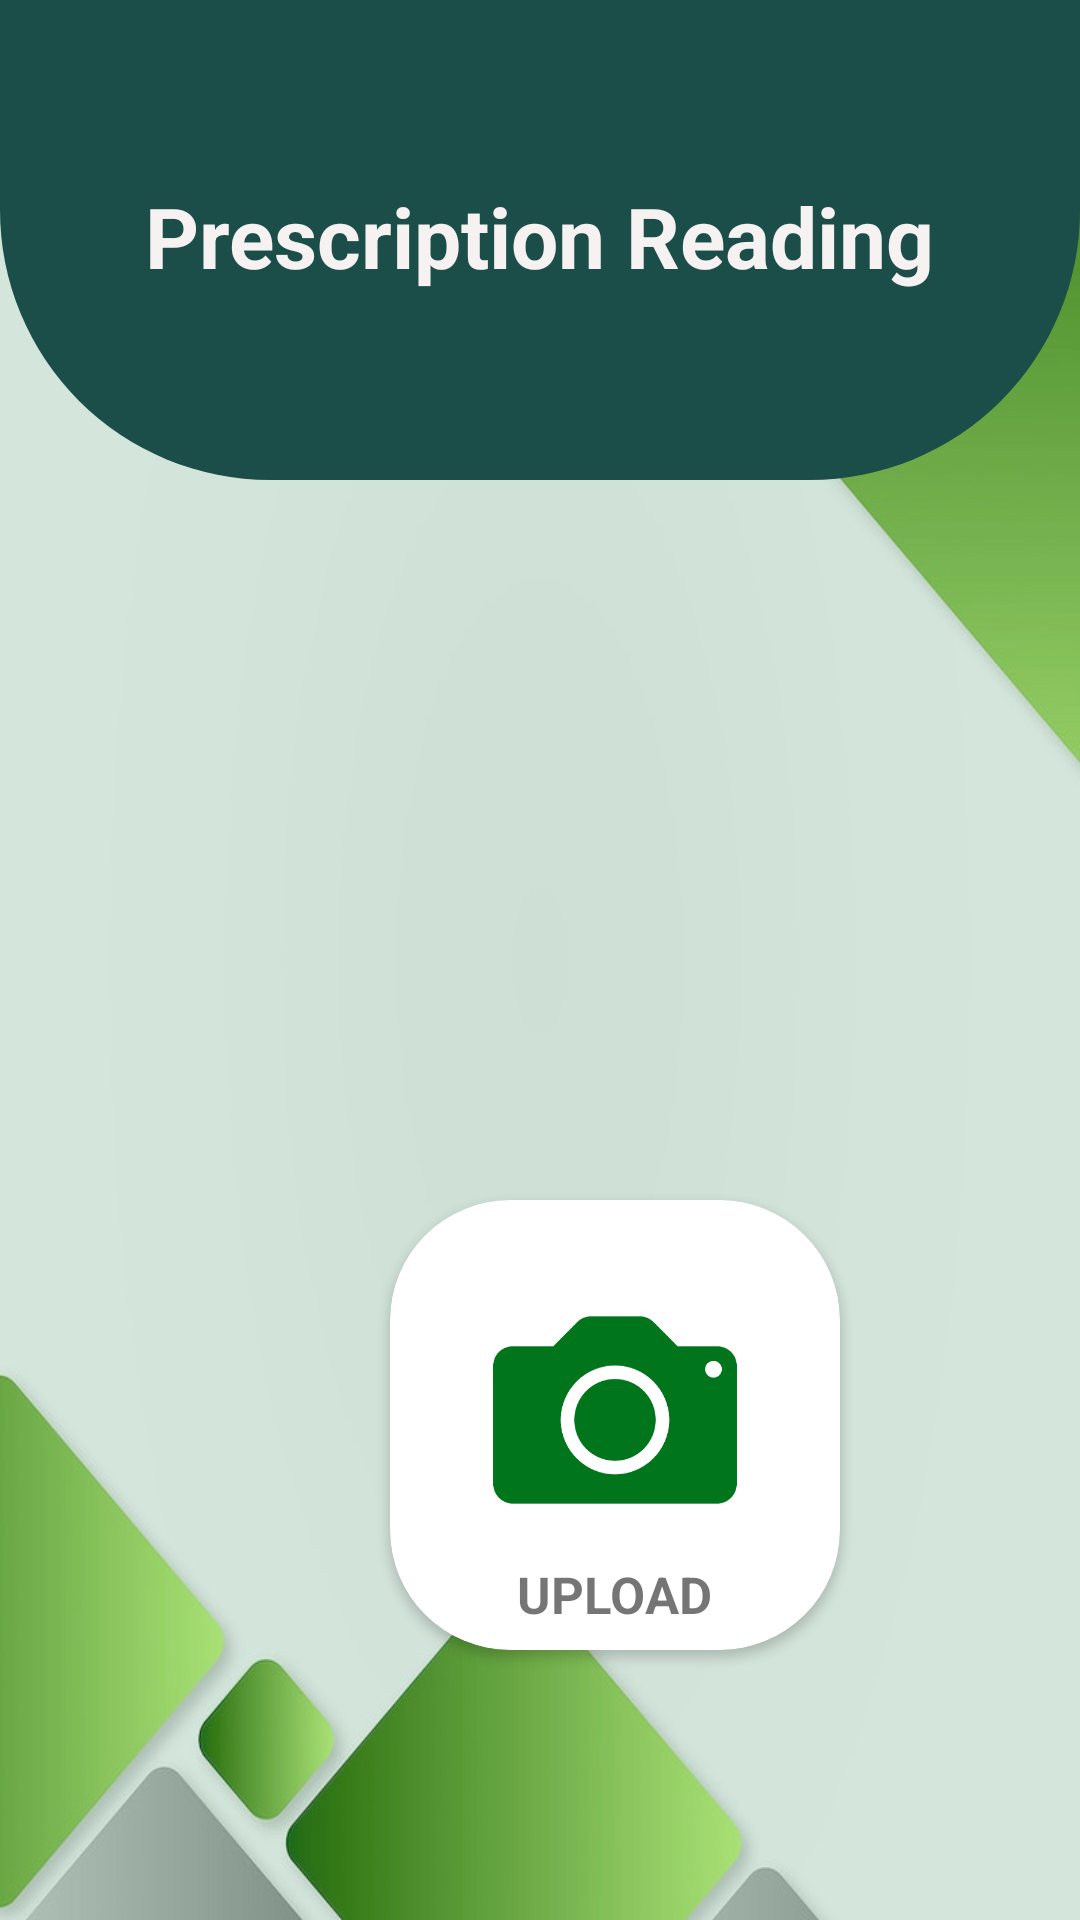

Screen size 1080 x 1920. Icon name, then its center in pixels as point (x, y):
cam: point (615, 1410)
